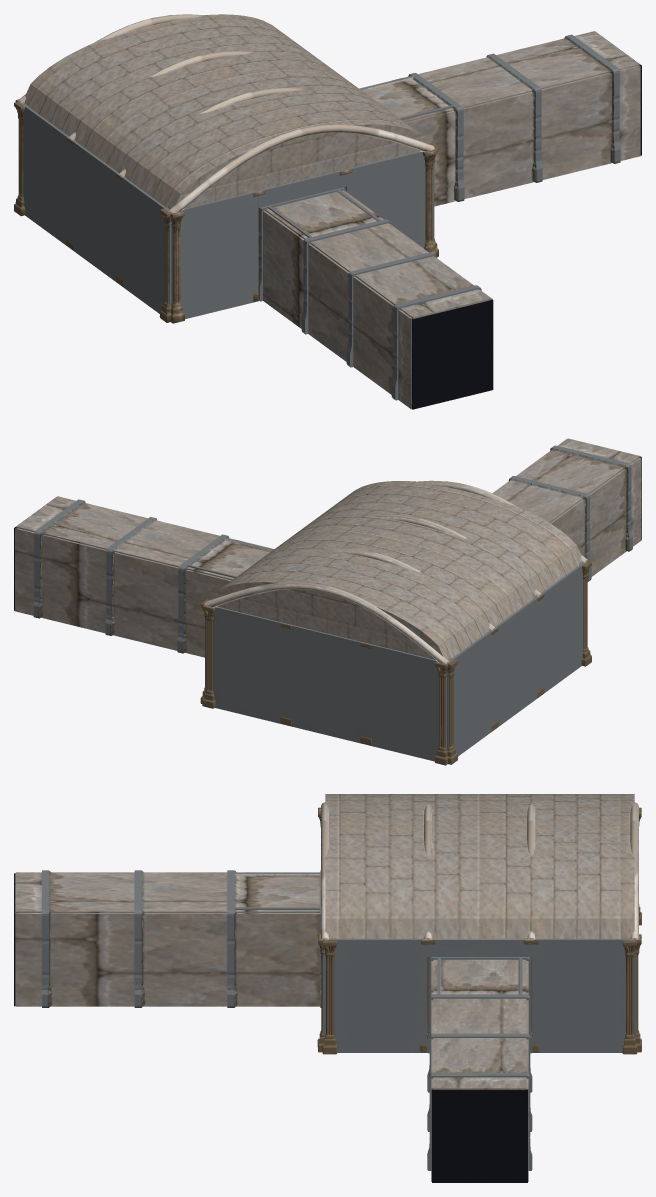
The model's file is room.glb.
The picture shows the model from 3 angles, top to bottom: view 1: azimuth 30°, elevation 25°; view 2: azimuth 150°, elevation 25°; view 3: azimuth 270°, elevation 25°; orthographic projection. The views are drawn at different scales.
Parts seen in each view (by area): view 1: AQUARIUM-ROOM; view 2: AQUARIUM-ROOM; view 3: AQUARIUM-ROOM.
Boxes of the visible parts, x1,y1,x2,y2 form: AQUARIUM-ROOM: (14,14,641,409); AQUARIUM-ROOM: (14,438,641,765); AQUARIUM-ROOM: (14,794,641,1182).
Size of the model in its own units: 20.3 by 5.95 by 20.3.
1 material, 1 textured.
